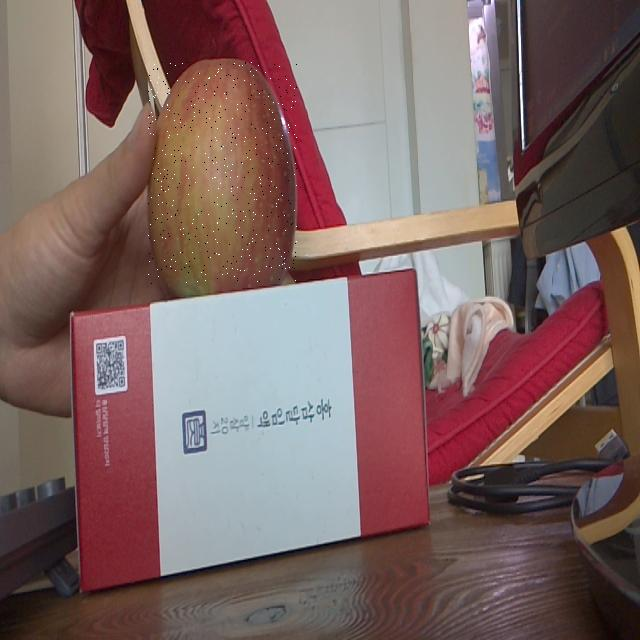apple: (148, 63, 297, 284)
